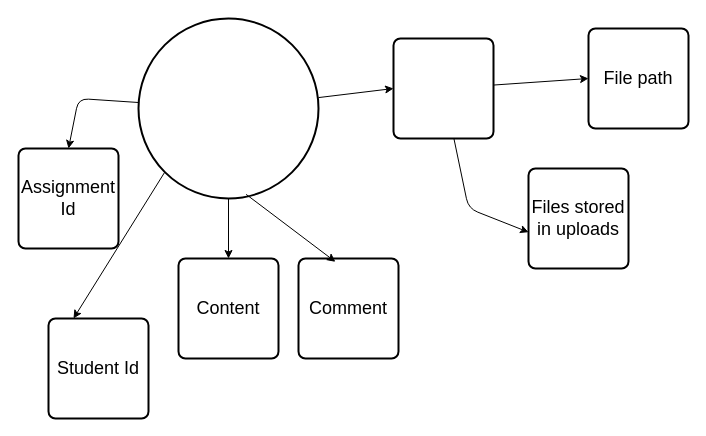
This 706x436 diagram has some shape labels left out. The box of each missing label's shape, as (x1, y1, x2, y2) in pixels:
Assignment Submissions: (137, 17, 319, 199)
New Attribute: File: (392, 37, 494, 139)
